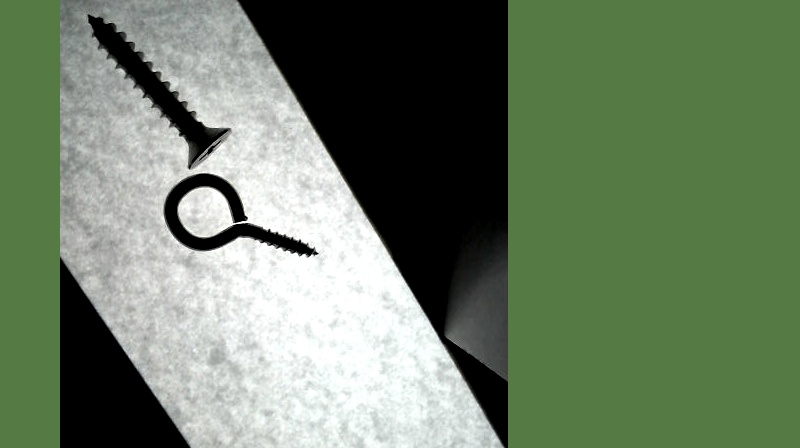O001: (162, 173, 321, 266)
S001: (84, 13, 230, 171)
